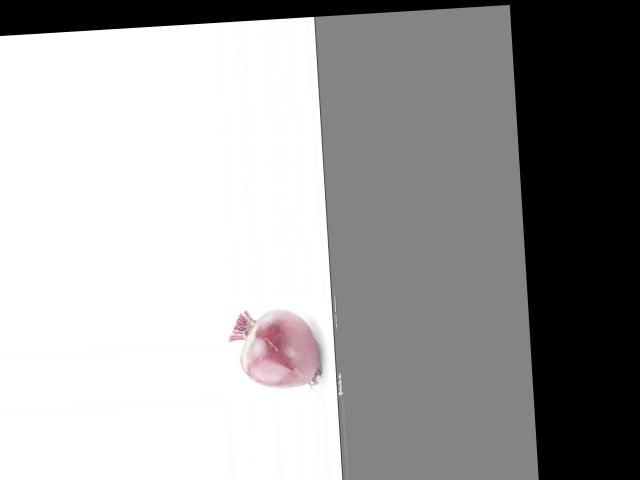beet: (227, 306, 321, 391)
